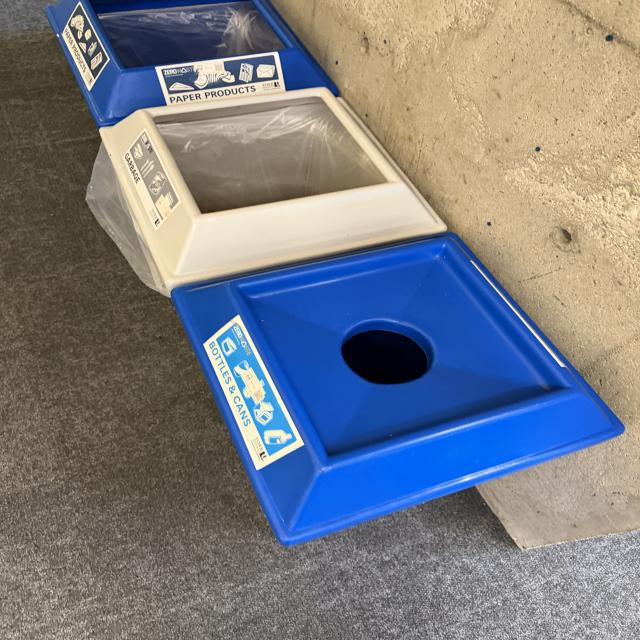Dustbin: (45, 1, 626, 545)
